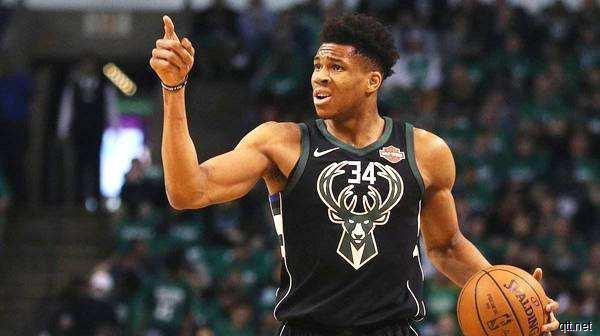no-phone: (147, 12, 197, 84)
